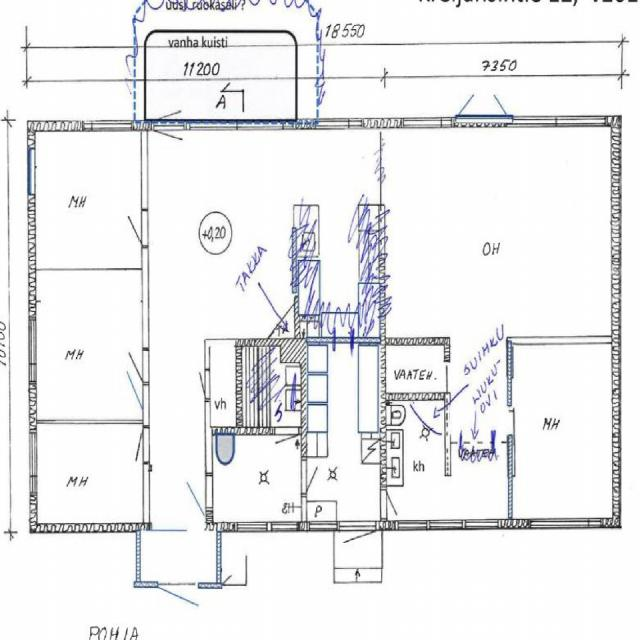door: (158, 472, 198, 532), (158, 581, 198, 638), (339, 523, 376, 580), (154, 79, 184, 129), (154, 118, 184, 168), (113, 209, 149, 246), (114, 426, 149, 464), (114, 379, 149, 417), (179, 475, 213, 509), (301, 459, 333, 494), (482, 85, 508, 128), (380, 487, 412, 521), (457, 85, 482, 128), (274, 427, 299, 466), (182, 369, 210, 400)
